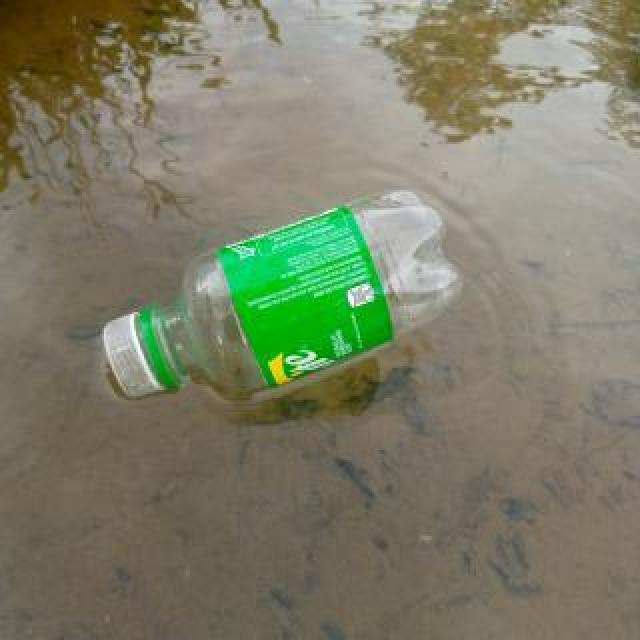bottle: (97, 185, 467, 409)
